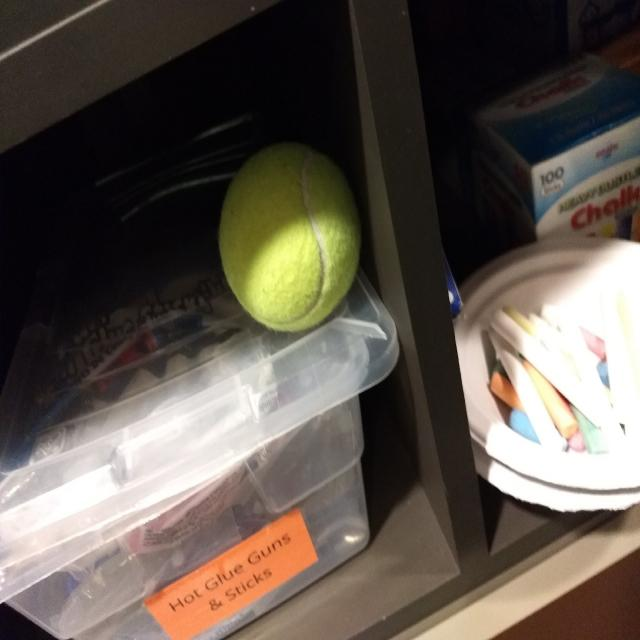Tennis-Ball: (218, 143, 364, 337)
